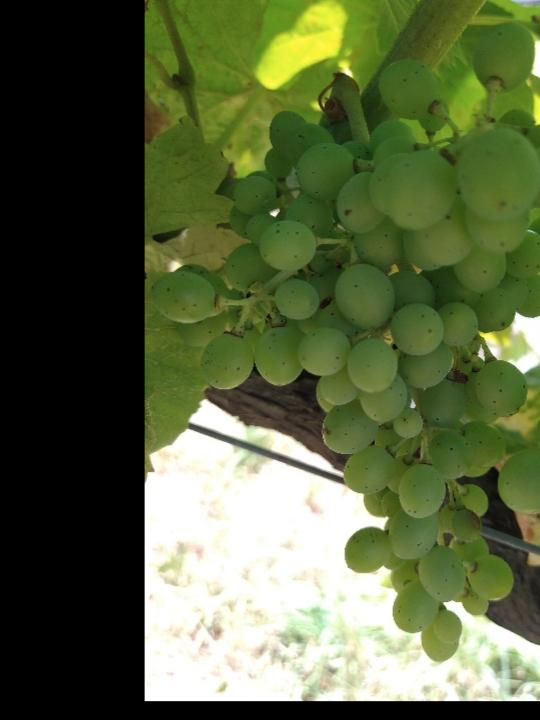grape: (151, 22, 540, 666)
